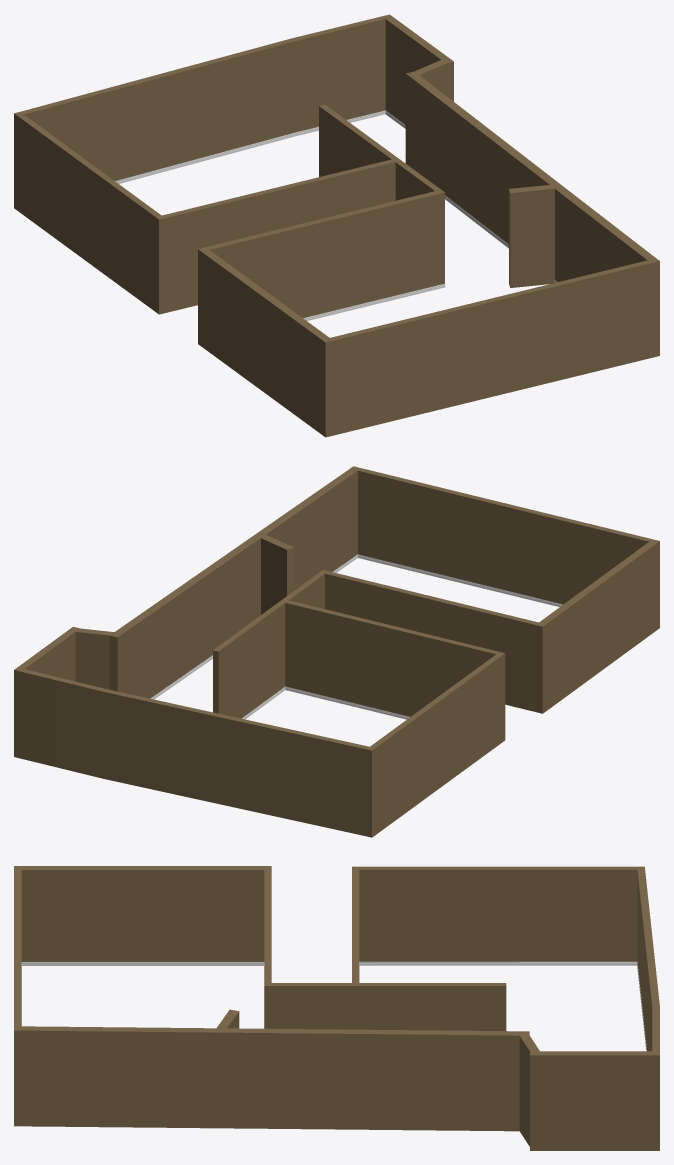
The model's file is Walls2.fbx.
3 views of the same model, one above another, from view 1: azimuth 30°, elevation 25°; view 2: azimuth 150°, elevation 25°; view 3: azimuth 270°, elevation 25° (orthographic). The views are drawn at different scales.
Visible parts, largest first — view 1: Walls; view 2: Walls; view 3: Walls.
Boxes of the visible parts, box(x1,y1,x2,y2) form: Walls: box(14, 14, 659, 437); Walls: box(14, 466, 659, 837); Walls: box(14, 866, 659, 1150).
Bounding box in the file's own units: 926 × 219 × 1336.
